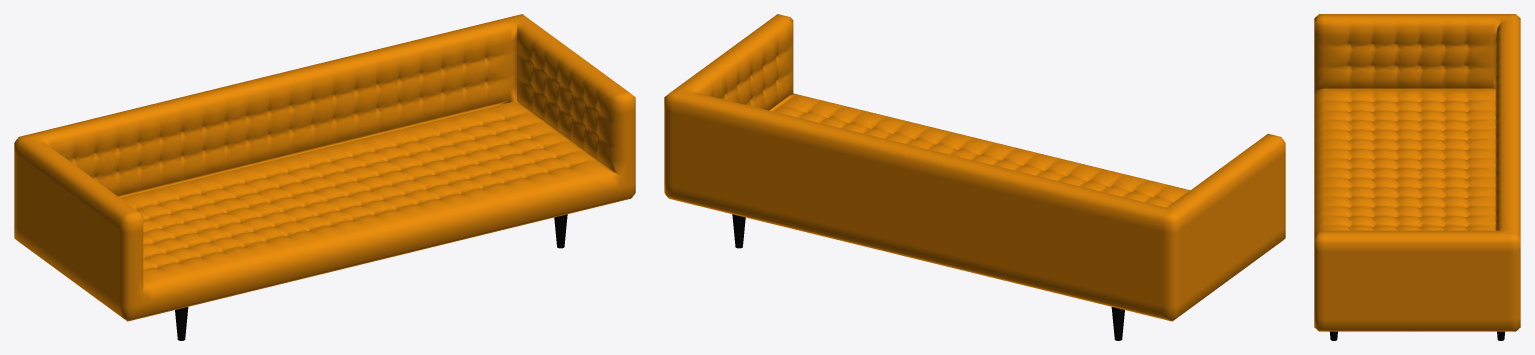
The model's file is fit-bench.glb.
The picture shows the model from 3 angles, left to right: view 1: azimuth 30°, elevation 25°; view 2: azimuth 150°, elevation 25°; view 3: azimuth 270°, elevation 25°; orthographic projection. The views are drawn at different scales.
Bounding box in the file's own units: 14.63 × 3.93 × 5.63.
